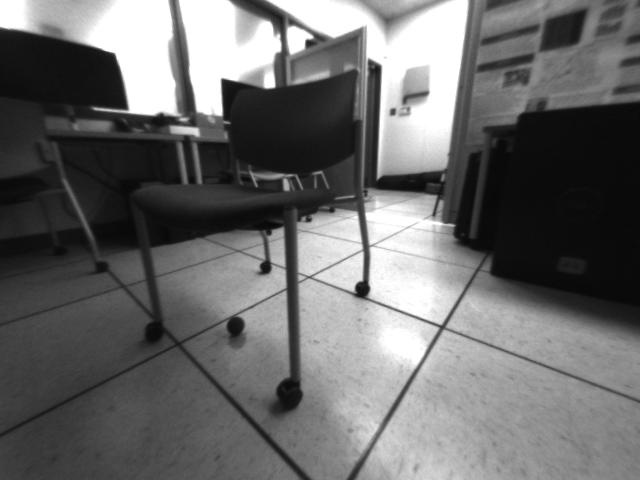dogtoy: (221, 307, 251, 340)
